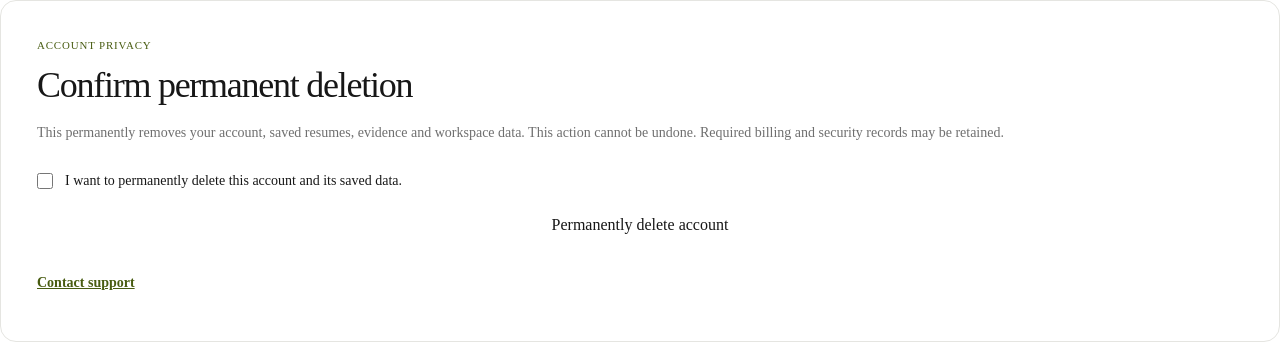
explicit owner erasure recovery › mounts without consuming proof and requires unchecked explicit consent, serializing double clicks
Expected: the button "Permanently delete account" is disabled, [37,213,1243,237]
Click the checkbox labelled "I want to permanently delete this account and its saved data.". click: (45, 181)
box: [37,173,53,189]
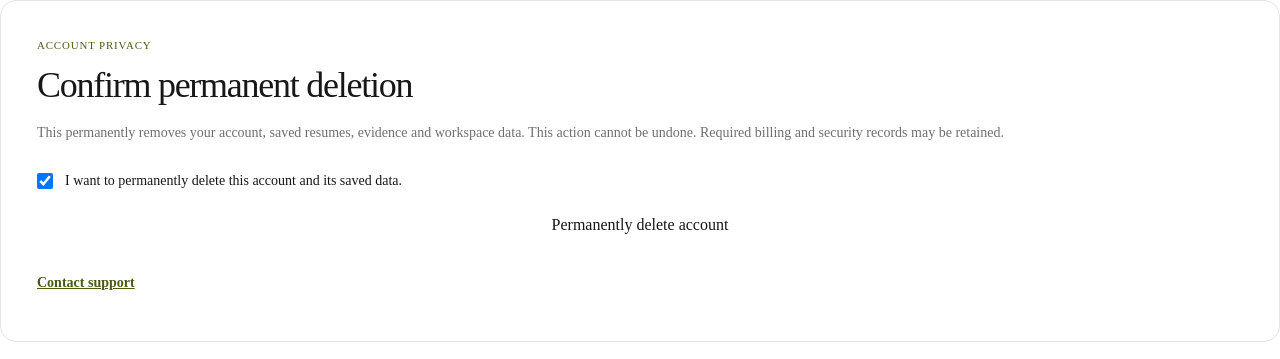
Click the button "Permanently delete account". click: (640, 225)
box: [37,213,1243,237]
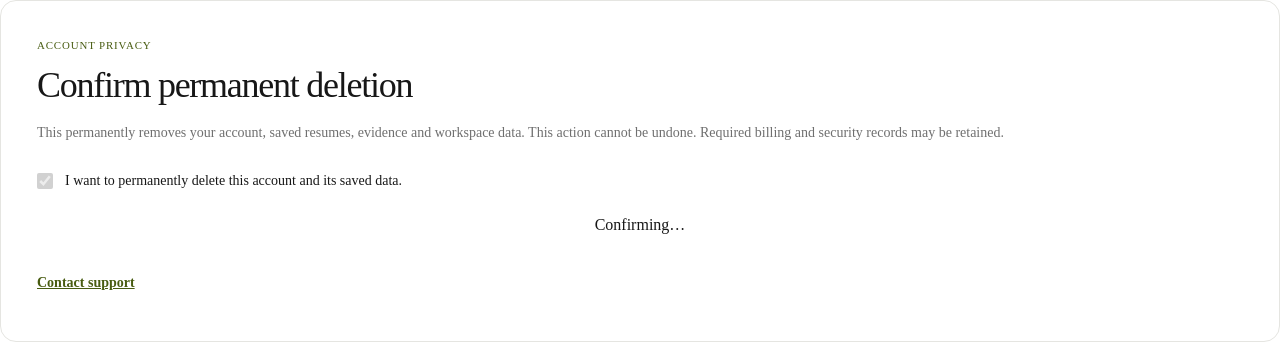
Click the button named "Permanently delete account". click: (640, 225)
box: [37,213,1243,237]
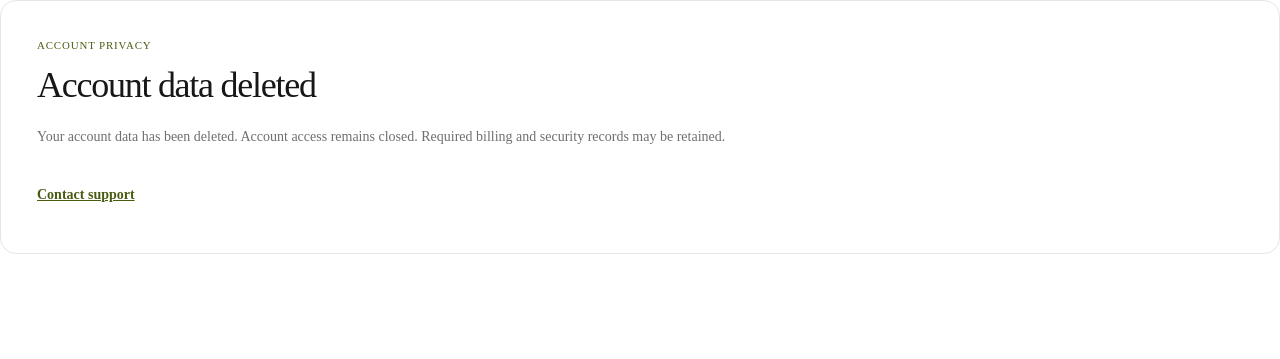
Now the heading "Account data deleted" is shown, box [37,65,316,105]
Now the checkbox is gone
